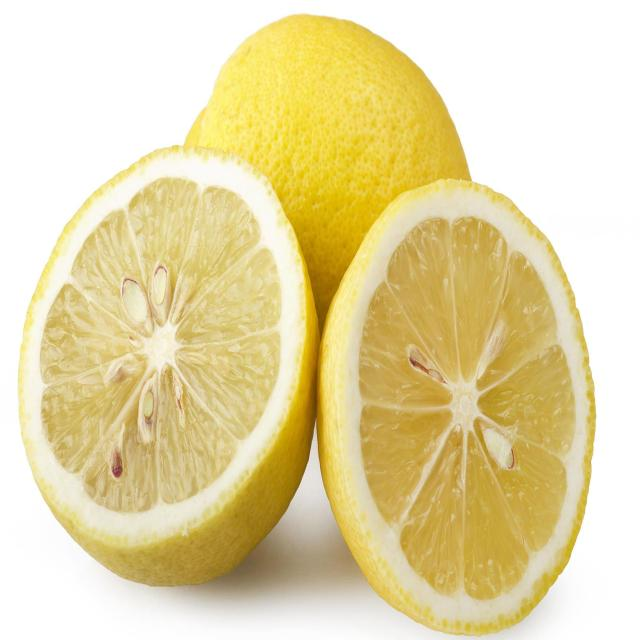lemon: (12, 138, 325, 592), (310, 172, 600, 640)
